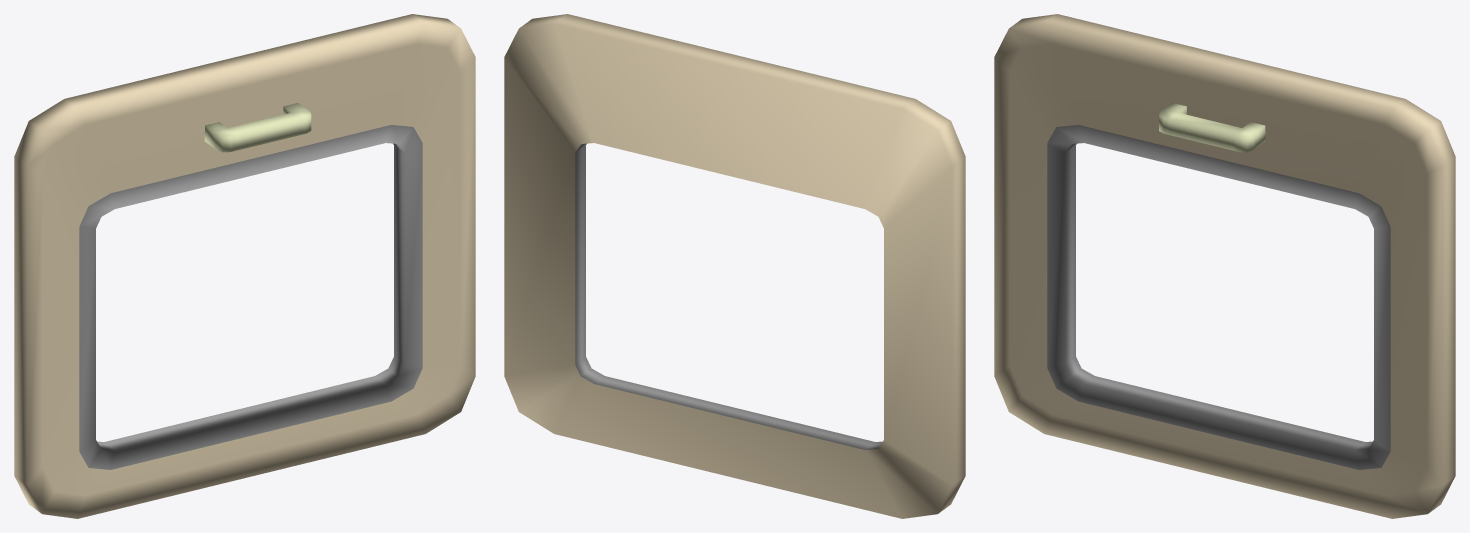
File: K_OvenDoor.glb
The picture shows the model from 3 angles, left to right: view 1: azimuth 30°, elevation 25°; view 2: azimuth 150°, elevation 25°; view 3: azimuth 330°, elevation 25°; orthographic projection.
Parts seen in each view (by area): view 1: Kitchen_OvenDoor; view 2: Kitchen_OvenDoor; view 3: Kitchen_OvenDoor.
Part boxes in pixels (bbox=[...]): Kitchen_OvenDoor: bbox=[14, 14, 475, 518]; Kitchen_OvenDoor: bbox=[504, 14, 965, 518]; Kitchen_OvenDoor: bbox=[994, 14, 1455, 518].
Size of the model in its own units: 0.8337 by 0.7291 by 0.0978.
